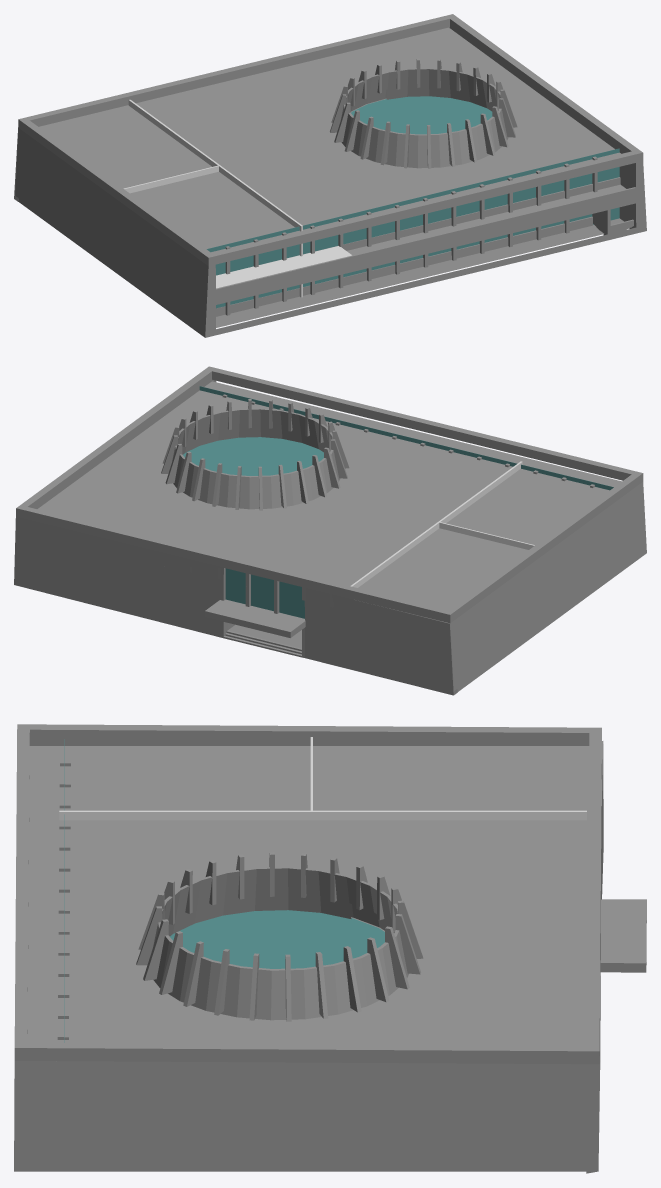
Rendered from EngineeringScene.fbx.
3 renders of one model, top to bottom at view 1: azimuth 30°, elevation 25°; view 2: azimuth 150°, elevation 25°; view 3: azimuth 270°, elevation 25°, orthographic. The views are drawn at different scales.
Visible parts, largest first — view 1: wall, ceilling, wall2, window, floor1, ceilling(glass), floor2, wall005, wall3; view 2: wall, ceilling, wall2, ceilling(glass), window001, deco, window, wall005, wall3, floor1; view 3: ceilling, wall, wall2, ceilling(glass), wall005, deco.
Part boxes in pixels (x1,y1,x2,y2): wall: (14,14,646,337); ceilling: (39,27,620,252); wall2: (330,58,517,168); window: (206,148,619,308); floor1: (216,218,631,327); ceilling(glass): (351,96,492,134); floor2: (216,246,351,288); wall005: (128,99,302,256); wall3: (123,165,218,193); wall: (14,366,646,695); ceilling: (37,381,621,609); wall2: (161,399,349,510); ceilling(glass): (183,437,323,475); window001: (225,568,304,618); deco: (204,599,305,637); window: (199,386,613,490); wall005: (350,461,522,587); wall3: (439,522,534,549); floor1: (228,624,301,648); ceilling: (27,746,589,1045); wall: (14,724,603,1173); wall2: (136,852,423,1021); ceilling(glass): (170,910,384,968); wall005: (59,810,586,820); deco: (600,899,646,972).
Bounding box in the file's own units: 730 × 593 × 174.
